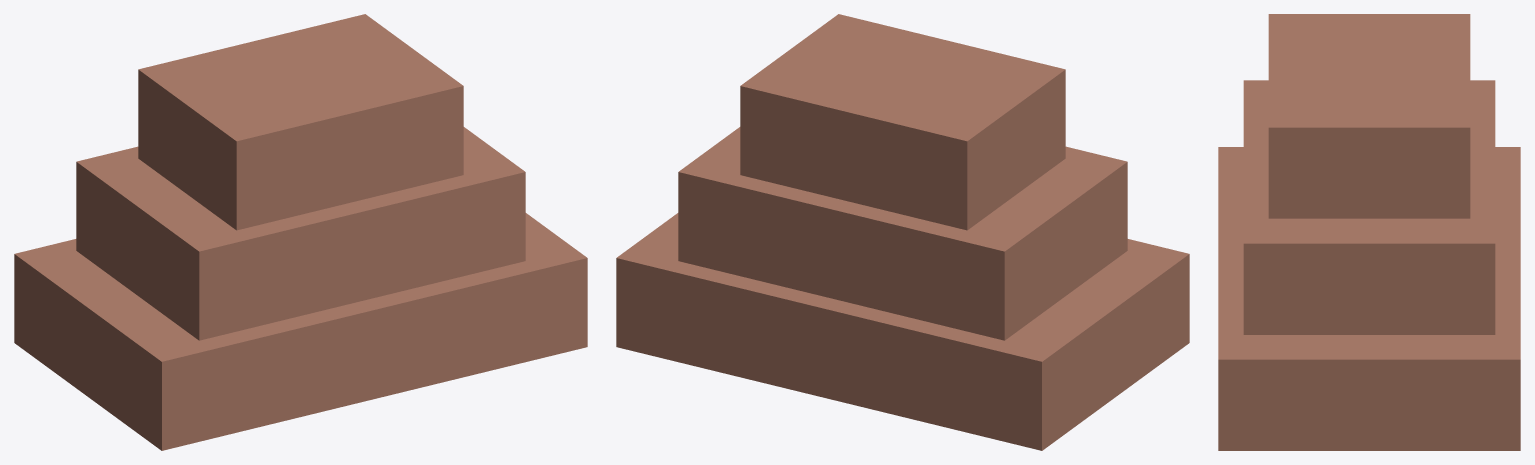
The model's file is pilha_blocos.glb.
3 renders of one model, left to right at view 1: azimuth 30°, elevation 25°; view 2: azimuth 150°, elevation 25°; view 3: azimuth 270°, elevation 25°, orthographic. The views are drawn at different scales.
Parts seen in each view (by area): view 1: Malha_0; view 2: Malha_0; view 3: Malha_0.
Part boxes in pixels (box(x1,y1,x2,y2)): Malha_0: box(14, 14, 587, 450); Malha_0: box(616, 14, 1189, 450); Malha_0: box(1218, 14, 1520, 450).
Bounding box in the file's own units: 1.5 × 0.9 × 0.9.
